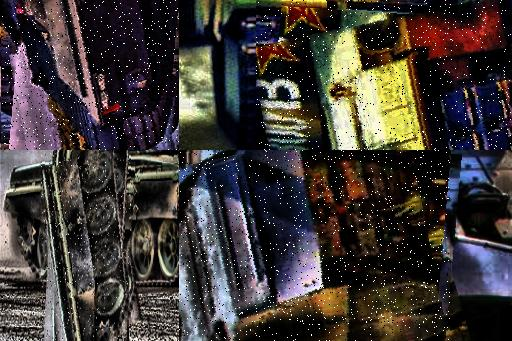tanks: (180, 151, 451, 341), (258, 1, 512, 151), (3, 1, 180, 151), (195, 1, 346, 151), (42, 155, 132, 341)
